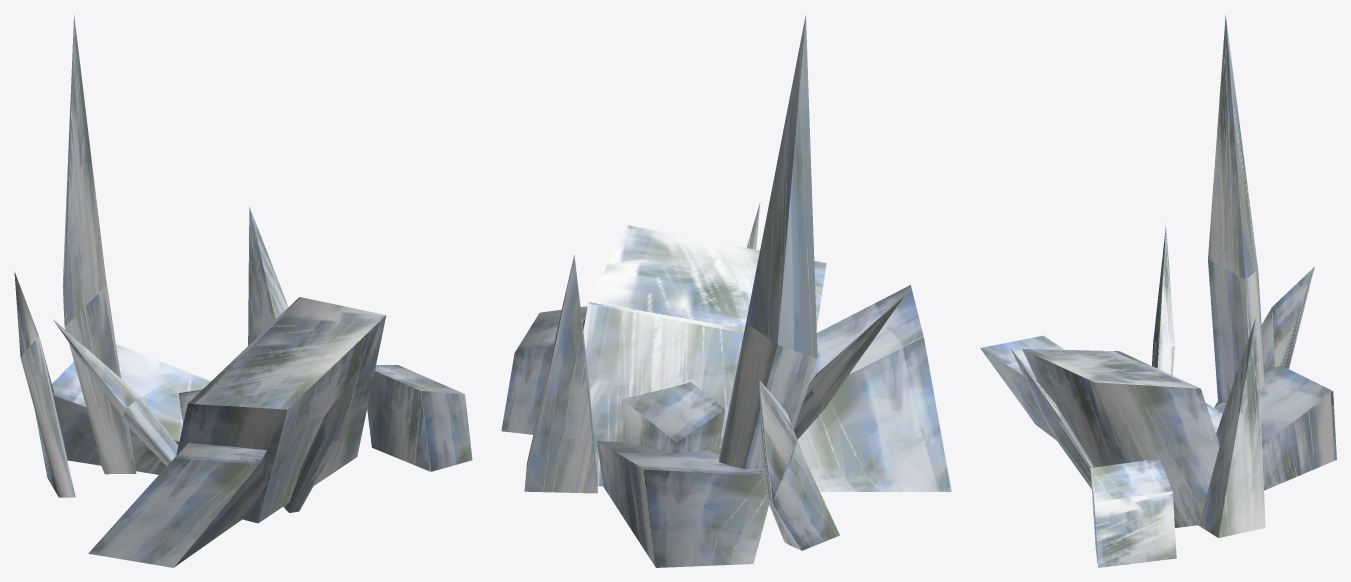
Rendered from pir_m_prp_cav_crystal_quartz_small.fbx.
3 views of the same model, side by side, from view 1: azimuth 30°, elevation 25°; view 2: azimuth 150°, elevation 25°; view 3: azimuth 270°, elevation 25° (orthographic). The views are drawn at different scales.
Visible parts, largest first — view 1: pCube81, pCube128, pCube105, pCube115, pCube116, pCube100, pCube90, pCube89, pCube93; view 2: pCube81, pCube128, pCube105, pCube116, pCube89, pCube100, pCube102, pCube115, pCube90; view 3: pCube81, pCube105, pCube89, pCube115, pCube116, pCube100, pCube128, pCube93, pCube90.
Part boxes in pixels (x1,y1,x2,y2): pCube81: (176, 297, 386, 523); pCube128: (88, 443, 267, 567); pCube105: (62, 14, 136, 474); pCube115: (367, 365, 472, 471); pCube116: (52, 344, 210, 474); pCube100: (14, 271, 75, 497); pCube90: (53, 319, 178, 466); pCube89: (248, 206, 288, 345); pCube93: (283, 364, 360, 512); pCube81: (583, 225, 826, 486); pCube128: (719, 285, 951, 491); pCube105: (718, 15, 817, 469); pCube116: (597, 441, 769, 567); pCube89: (524, 255, 597, 493); pCube100: (759, 380, 839, 550); pCube102: (622, 382, 725, 452); pCube115: (501, 306, 587, 434); pCube90: (793, 295, 904, 439); pCube81: (1022, 349, 1219, 527); pCube105: (1208, 15, 1264, 404); pCube89: (1198, 318, 1265, 537); pCube115: (1090, 458, 1176, 567); pCube116: (1214, 365, 1336, 490); pCube100: (1214, 267, 1314, 407); pCube128: (980, 335, 1064, 440); pCube93: (1010, 348, 1093, 489); pCube90: (1152, 224, 1174, 375).
Size of the model in its own units: 1341 by 1612 by 1228.
Materials: 1 (1 with a texture image).
